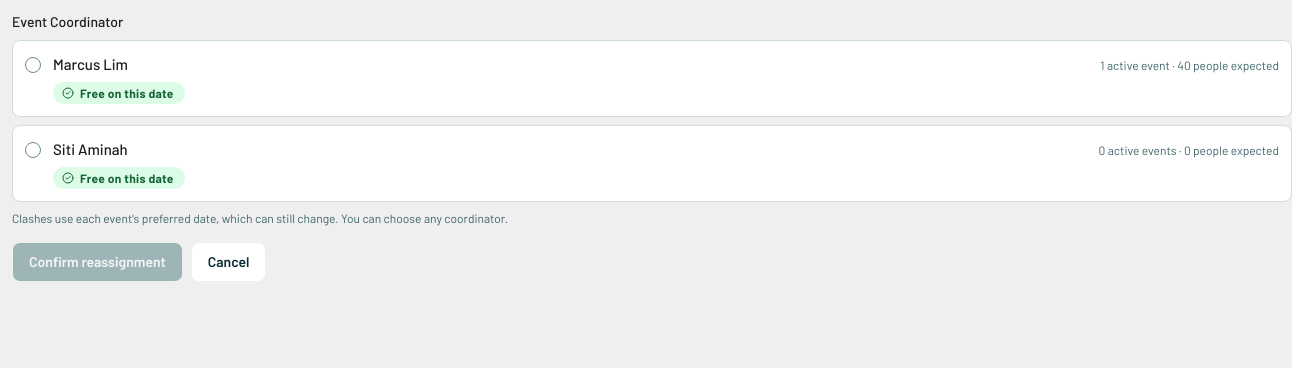
Scenario: SCRUM-79 — Reassign an Event Coordinator › SCRUM-79/AC3 shows the refusal, and not a success, when event-service refuses
This screenshot has width=1292, height=368.
Click the radio button named "Marcus Lim" next to "Marcus Lim" at (33,65), box [25,57,41,73]
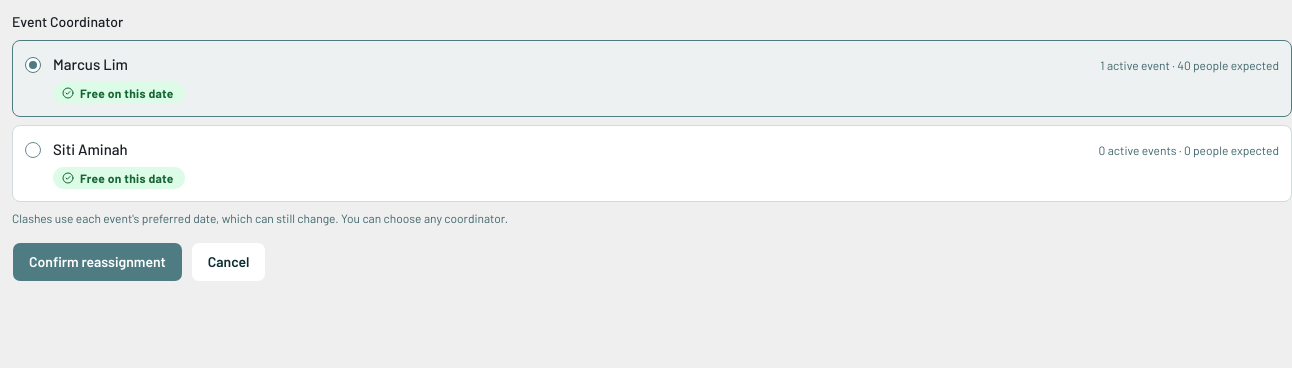
Click the button "Confirm reassignment" at (97,262), box [12,242,183,282]
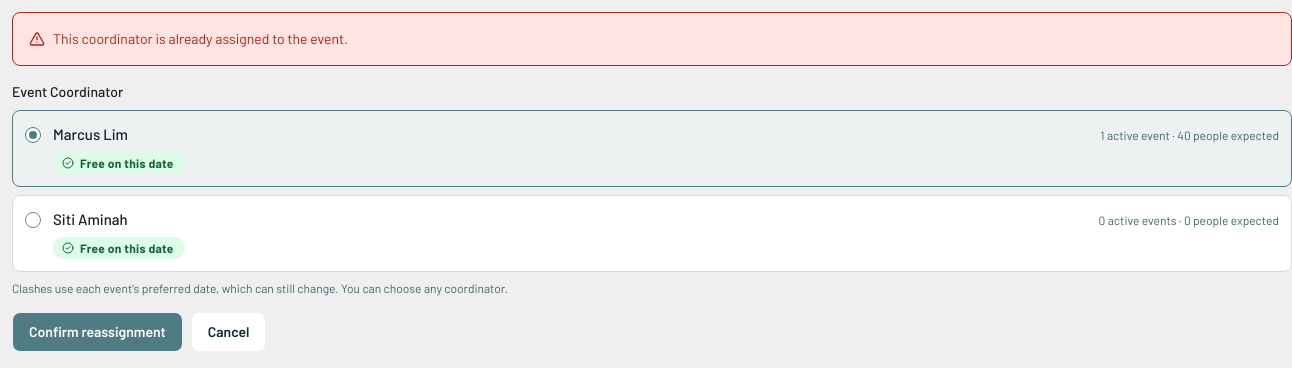
Result: the message reads "This coordinator is already assigned to the event." at [53,30,348,47]
